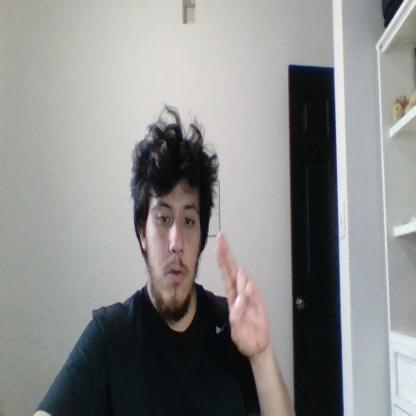U: (215, 233, 269, 358)
